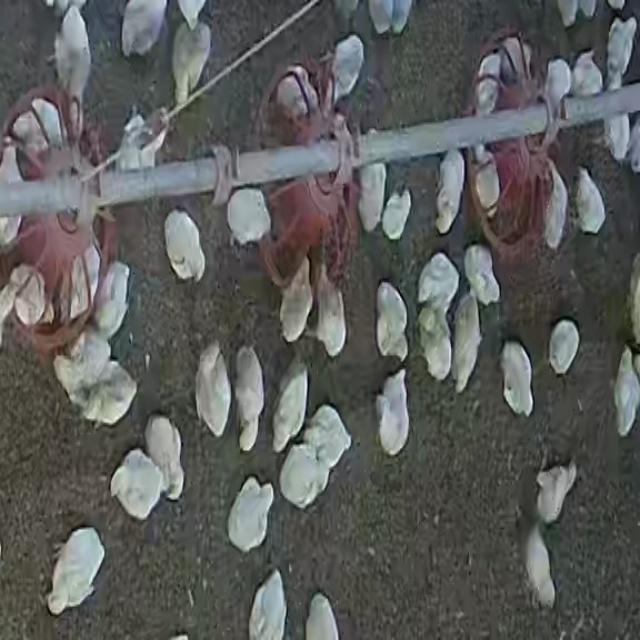chicken: (44, 524, 108, 616), (222, 473, 278, 555), (109, 449, 167, 522), (373, 366, 414, 458), (194, 342, 232, 441), (520, 526, 562, 612), (272, 359, 310, 452), (145, 416, 186, 502), (54, 6, 93, 96), (278, 444, 329, 511), (234, 345, 266, 450), (303, 404, 352, 469), (272, 62, 325, 121), (226, 184, 274, 249), (164, 209, 206, 283), (314, 265, 347, 357), (278, 258, 314, 341), (93, 262, 131, 340), (451, 296, 481, 393), (500, 339, 536, 419), (12, 98, 66, 151), (63, 245, 101, 320), (535, 460, 579, 524), (418, 302, 452, 382), (375, 282, 409, 361), (434, 151, 466, 234), (248, 571, 287, 638), (329, 33, 365, 104), (612, 349, 640, 439), (542, 161, 570, 251), (416, 252, 459, 310), (10, 264, 48, 328), (572, 167, 606, 236), (463, 243, 499, 308), (473, 53, 505, 119), (358, 161, 387, 233), (548, 316, 582, 377), (472, 152, 502, 215), (542, 56, 572, 118), (380, 188, 414, 242), (303, 594, 341, 640), (569, 49, 603, 99)
